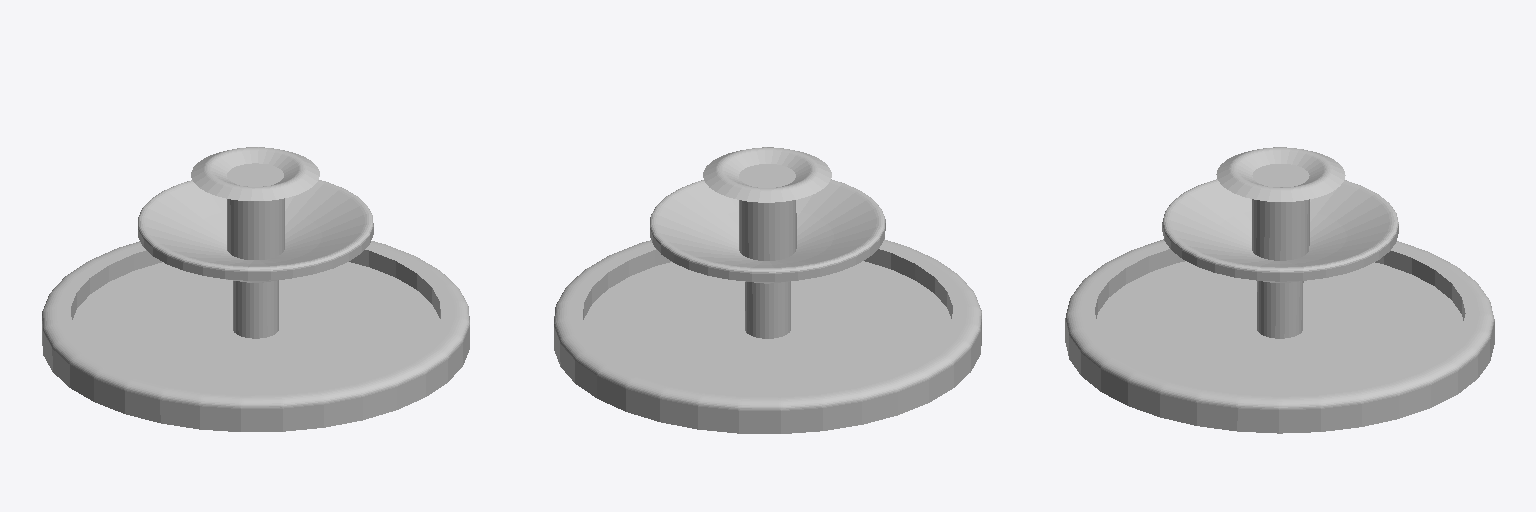
File: fuente.obj
3 renders of one model, left to right at view 1: azimuth 30°, elevation 25°; view 2: azimuth 150°, elevation 25°; view 3: azimuth 270°, elevation 25°, orthographic.
Visible parts, largest first — view 1: Circle; view 2: Circle; view 3: Circle.
Boxes of the visible parts, x1,y1,x2,y2 form: Circle: [42, 147, 469, 431]; Circle: [554, 147, 981, 433]; Circle: [1065, 147, 1494, 433].
Size of the model in its own units: 71.82 by 32.46 by 71.84.